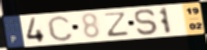1: (158, 6, 174, 36)
4: (26, 16, 46, 44)
8: (80, 12, 102, 40)
C: (46, 14, 75, 42)
S: (133, 8, 161, 36)
Z: (104, 11, 131, 39)
